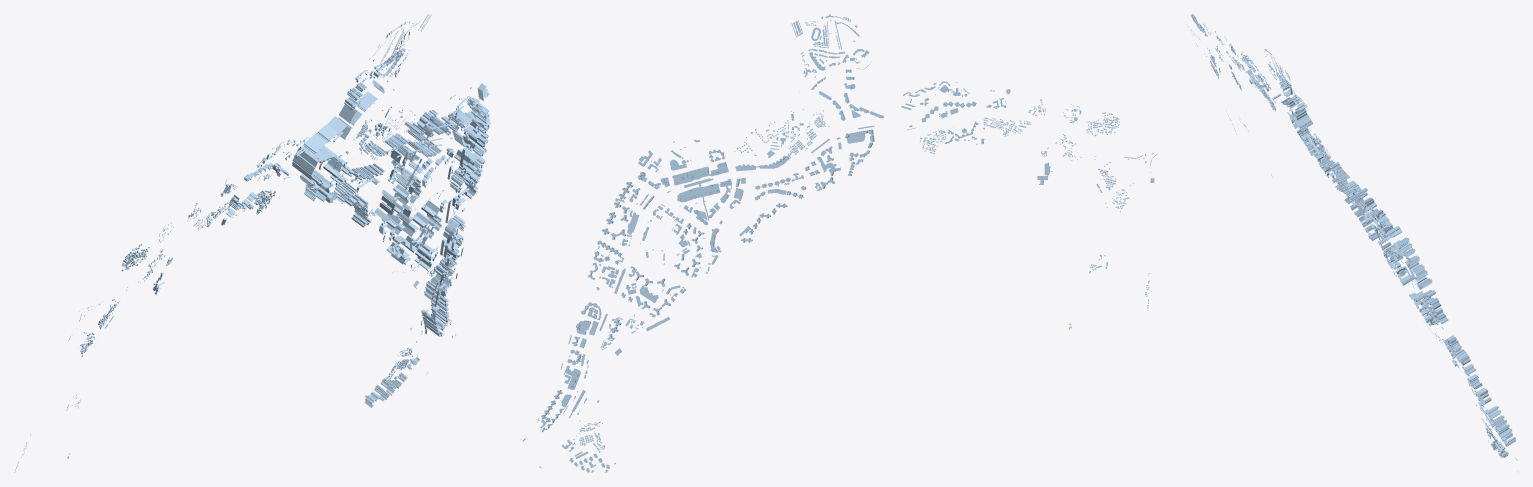
3 views of the same model, side by side, from view 1: azimuth 30°, elevation 25°; view 2: azimuth 150°, elevation 25°; view 3: azimuth 270°, elevation 25° (orthographic). The views are drawn at different scales.
Visible parts, largest first — view 1: geometry_0; view 2: geometry_0; view 3: geometry_0.
Part boxes in pixels (x1,y1,x2,y2): geometry_0: (14, 14, 491, 472); geometry_0: (520, 14, 1157, 472); geometry_0: (1186, 14, 1518, 472).
Bounding box in the file's own units: 4326 × 3435 × 2921.
